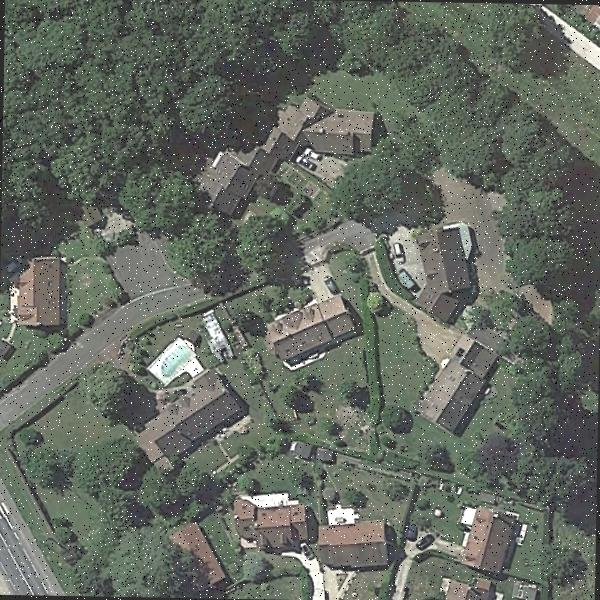Buildings: (418, 336, 506, 428), (147, 373, 236, 450), (210, 140, 290, 212), (290, 98, 377, 150), (230, 496, 308, 554), (276, 306, 356, 354), (320, 518, 390, 568), (17, 258, 61, 334), (423, 229, 462, 313), (464, 510, 513, 567), (437, 577, 496, 600)
